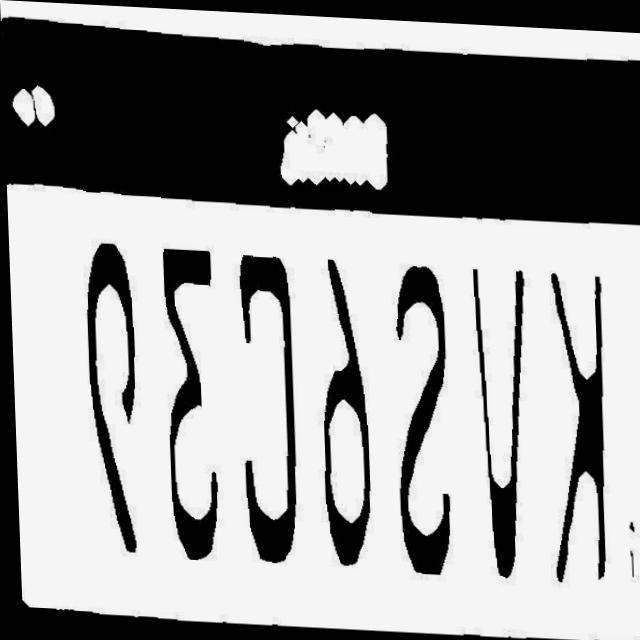3: (145, 235, 229, 585)
6: (299, 239, 386, 578)
9: (64, 228, 152, 574)
c: (221, 239, 303, 584)
k: (536, 226, 631, 567)
s: (379, 235, 468, 570)
v: (464, 228, 540, 576)
